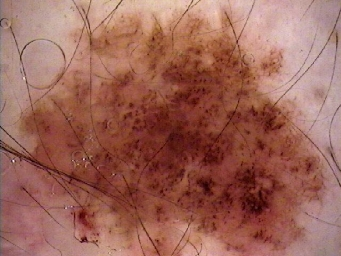melanoma: (13, 13, 323, 256)
